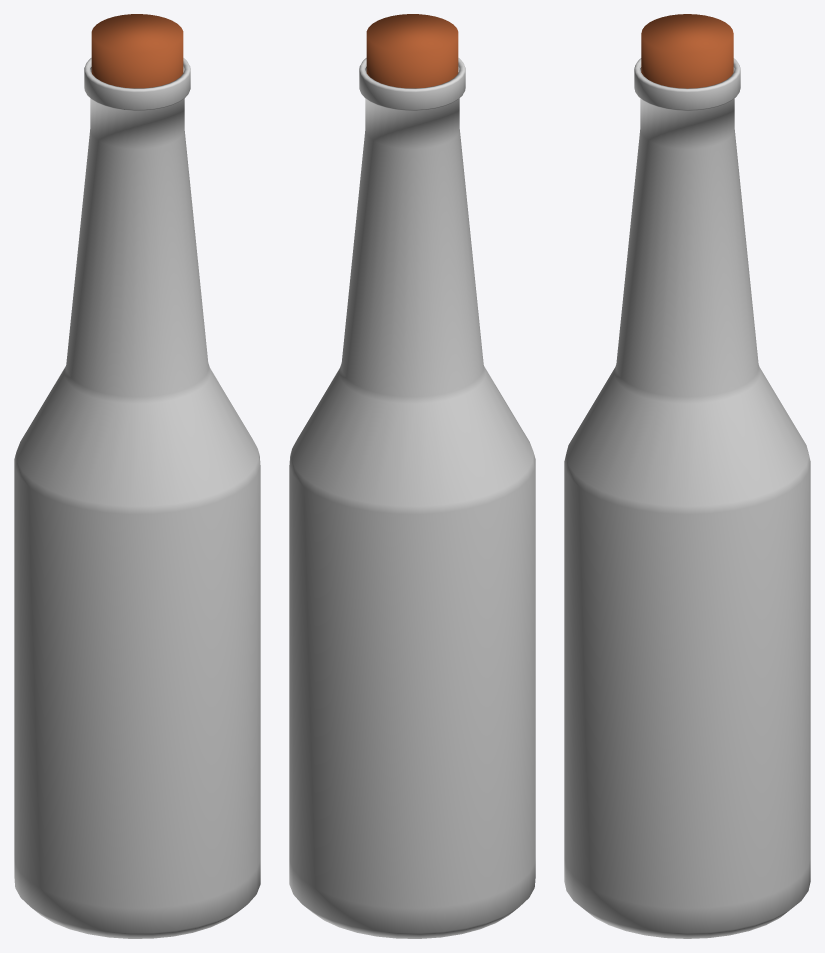
The model's file is GlassBottle.fbx.
3 views of the same model, side by side, from view 1: azimuth 30°, elevation 25°; view 2: azimuth 150°, elevation 25°; view 3: azimuth 270°, elevation 25° (orthographic).
Visible parts, largest first — view 1: Cylinder, Cylinder.001; view 2: Cylinder, Cylinder.001; view 3: Cylinder, Cylinder.001.
Boxes of the visible parts, x1,y1,x2,y2 form: Cylinder: [14, 58, 260, 938]; Cylinder.001: [91, 14, 183, 88]; Cylinder: [289, 58, 535, 938]; Cylinder.001: [366, 14, 458, 88]; Cylinder: [564, 58, 810, 938]; Cylinder.001: [641, 14, 733, 88].
Bounding box in the file's own units: 67.02 × 257 × 67.02.
